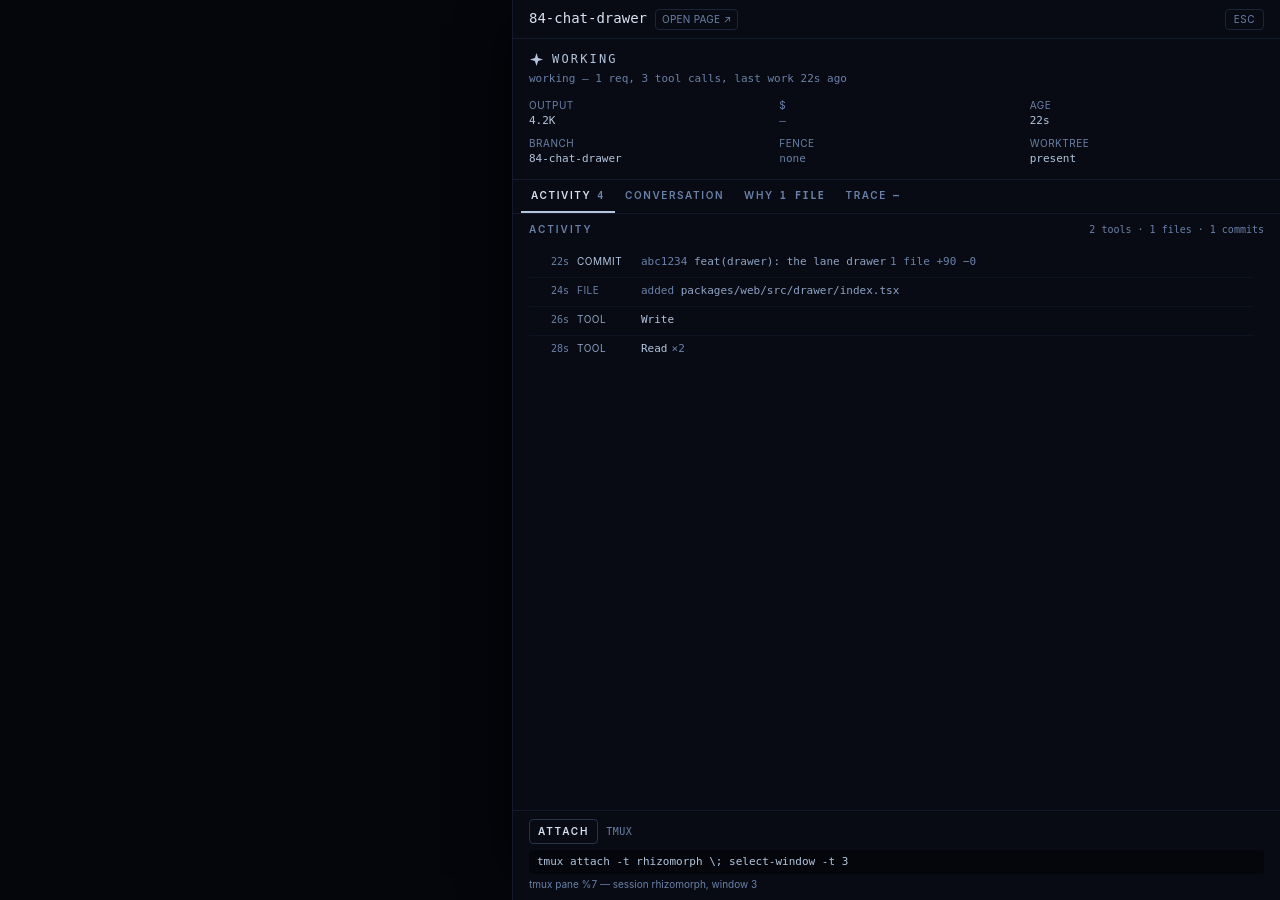
LaneDrawer — the tab bar (#163) › clicking a tab shows only that tab's body
The image size is (1280, 900).
Click the tab with test id "drawer-tab-why" at (785, 197), box x1=734 y1=180 x2=835 y2=213
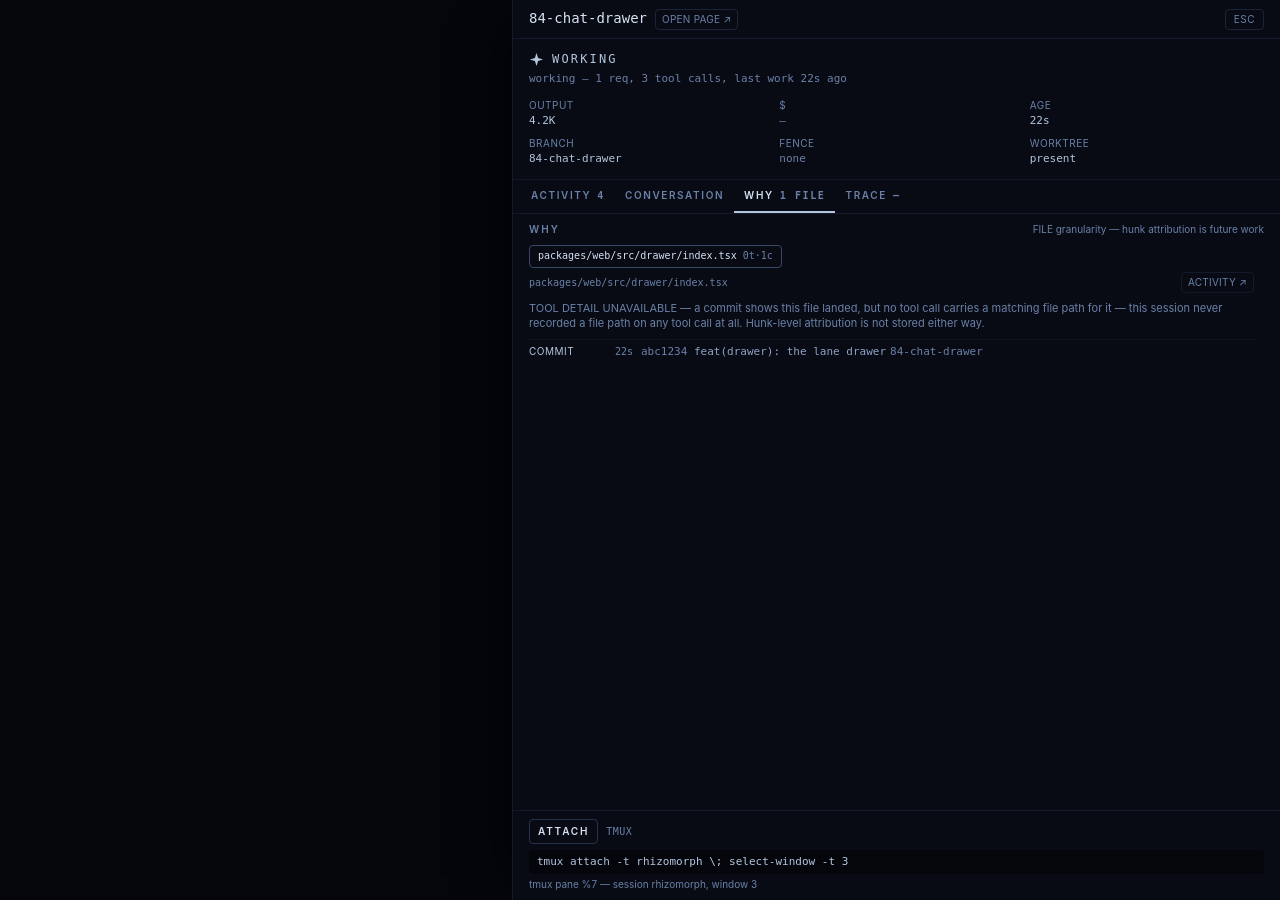
Expected: the element with test id "why-surface" is shown, x1=529 y1=223 x2=1264 y2=359
Expected: the element with test id "drawer-activity" is gone
